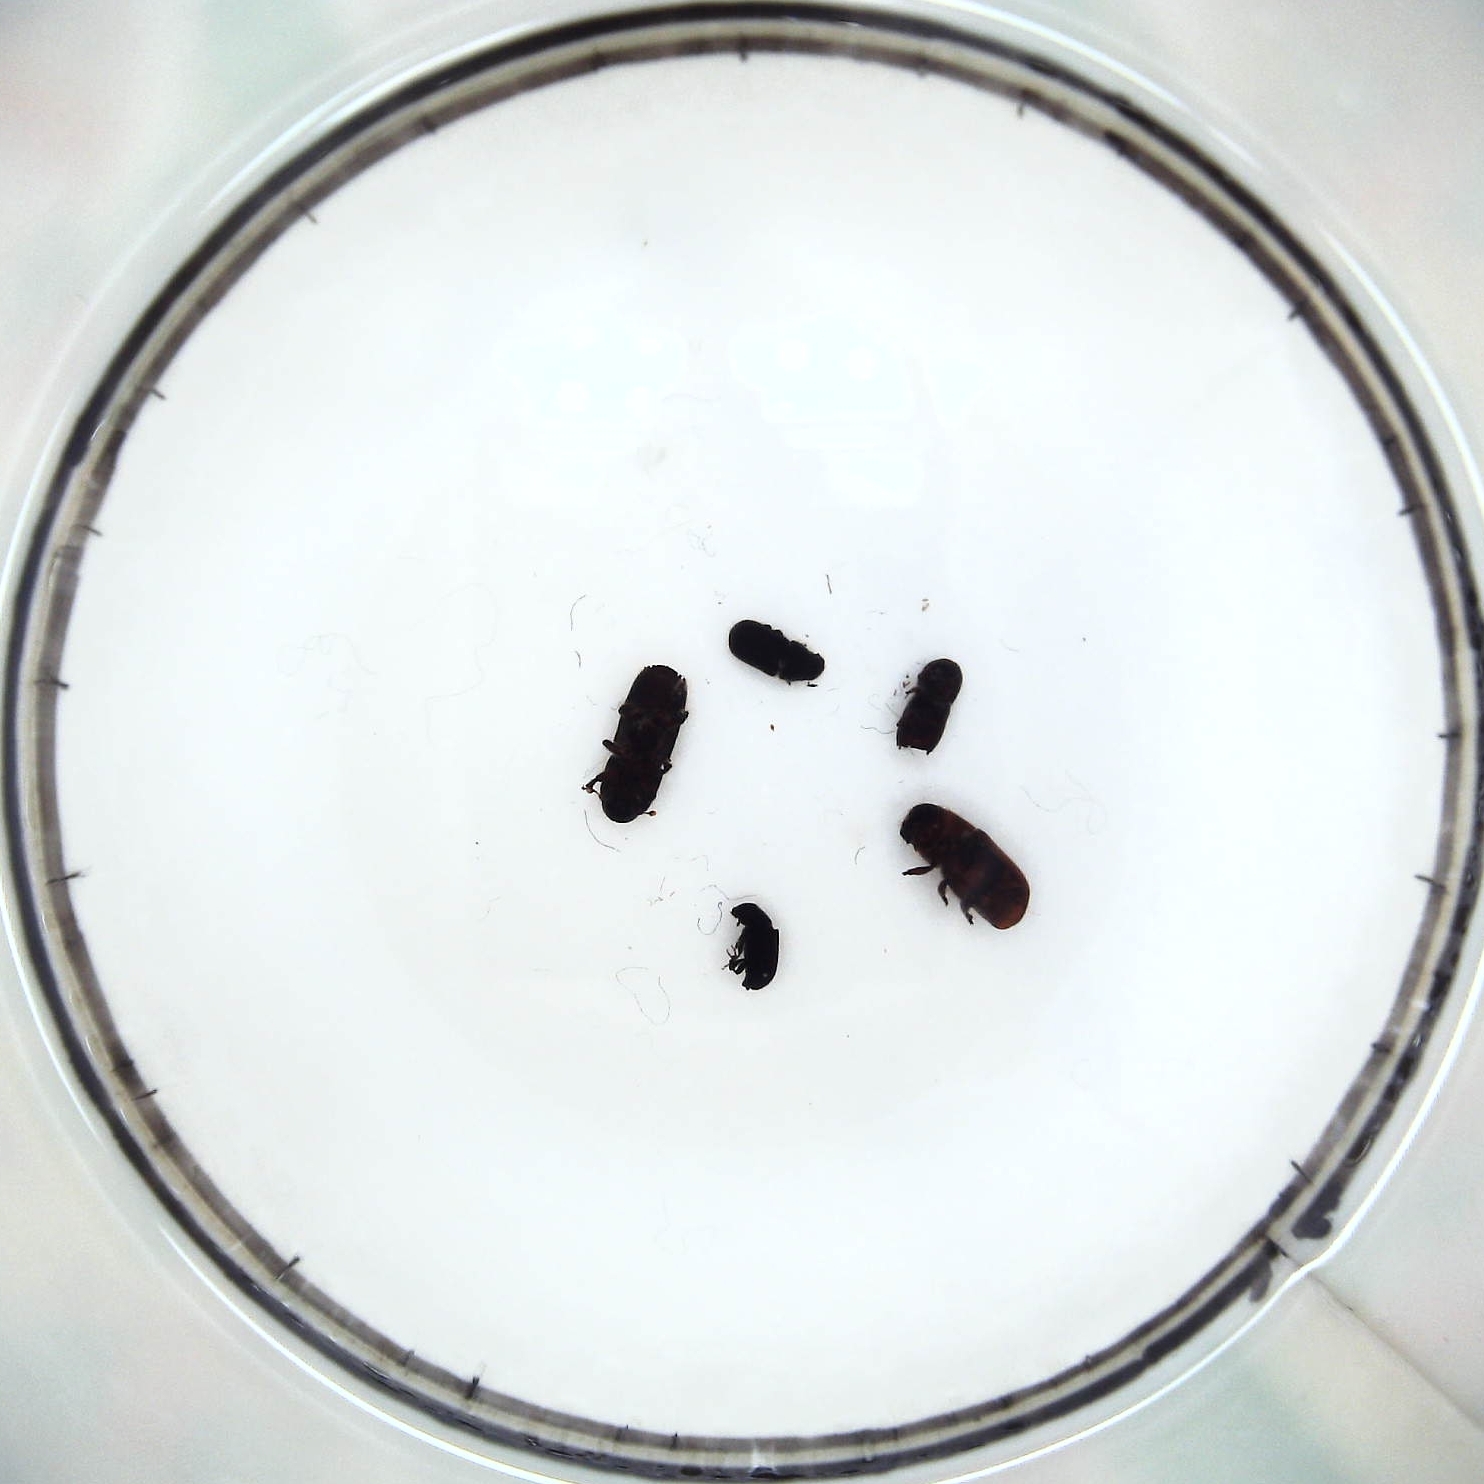Boerner: (583, 662, 690, 824)
Leconte: (898, 802, 1031, 930)
Linnaeus: (896, 656, 965, 756)
armandi: (726, 614, 829, 685)
coleoptera: (724, 900, 781, 991)
